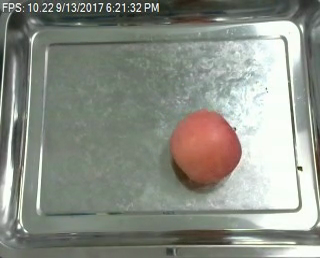Apple: (165, 107, 244, 188)
